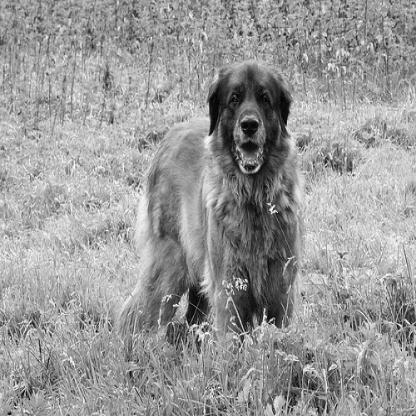Leonberger: (107, 40, 319, 369)
